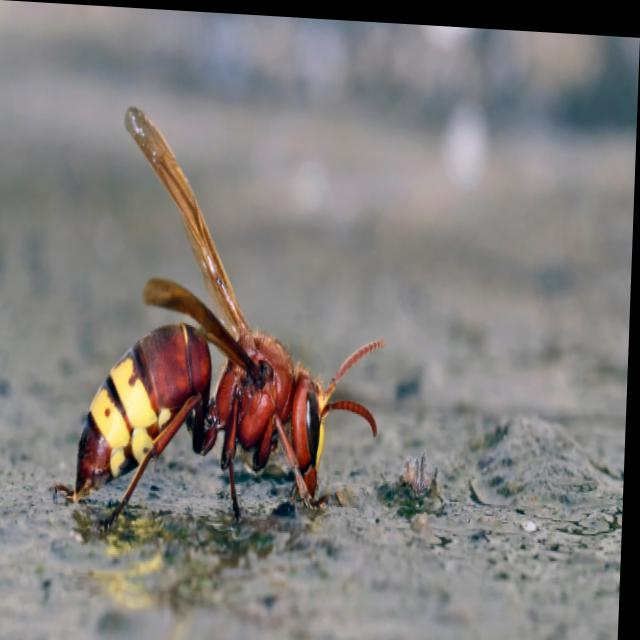Vespa Orientalis: (54, 69, 406, 579)
